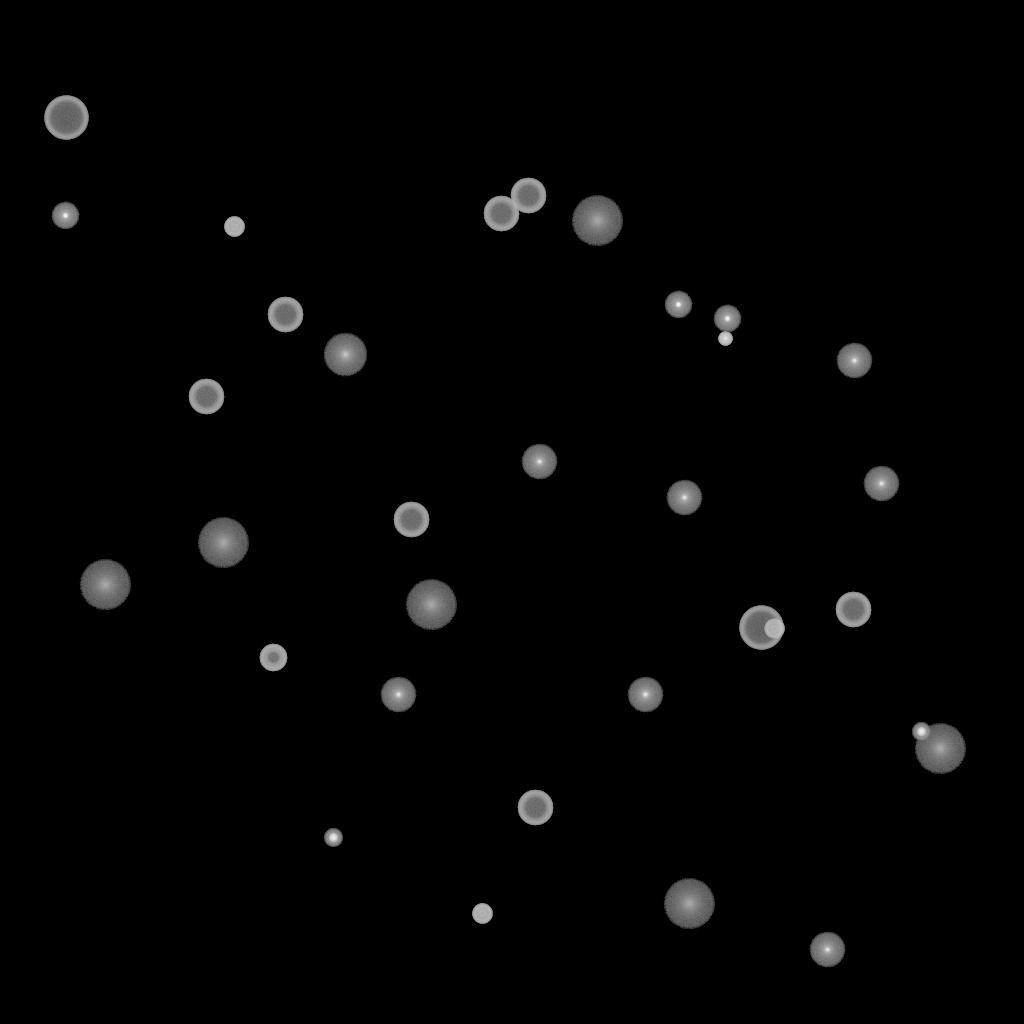depth:-10: (51, 202, 79, 230), (664, 291, 692, 319), (713, 305, 741, 333)
depth:-20: (324, 829, 342, 847), (912, 723, 930, 741)
depth:-30: (718, 332, 732, 346)
depth:-40: (472, 904, 492, 924), (764, 619, 784, 639), (224, 217, 244, 237)
depth:-50: (259, 644, 287, 672)
depth:-60: (517, 790, 553, 826), (188, 379, 224, 415), (267, 297, 303, 333), (393, 502, 429, 538), (835, 592, 871, 628), (483, 196, 519, 232), (510, 178, 546, 214)
depth:-70: (44, 96, 88, 140), (739, 606, 783, 650)
depth:0: (380, 677, 416, 713), (863, 466, 899, 502), (627, 677, 663, 713), (666, 480, 702, 516), (836, 343, 872, 379), (809, 932, 845, 968), (521, 444, 557, 480)
depth:10: (323, 333, 367, 377)
depth:20: (571, 196, 623, 246), (663, 879, 715, 929), (914, 724, 966, 774), (197, 518, 249, 568), (79, 560, 131, 610), (405, 580, 457, 630)
